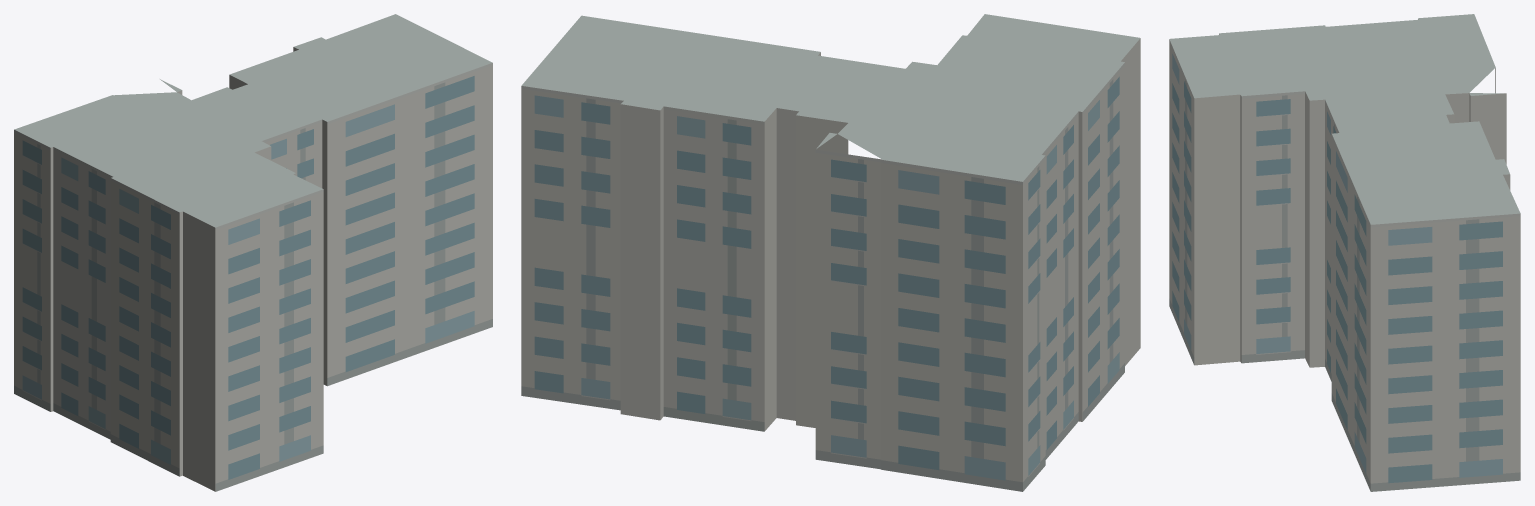
The model's file is survey-upis-32827572.glb.
3 views of the same model, side by side, from view 1: azimuth 30°, elevation 25°; view 2: azimuth 150°, elevation 25°; view 3: azimuth 270°, elevation 25° (orthographic). The views are drawn at different scales.
Parts seen in each view (by area): view 1: survey-upis-32827572.tmp; view 2: survey-upis-32827572.tmp; view 3: survey-upis-32827572.tmp.
Part boxes in pixels (x1,y1,x2,y2): survey-upis-32827572.tmp: (14,14,492,491); survey-upis-32827572.tmp: (521,14,1140,491); survey-upis-32827572.tmp: (1169,14,1520,491).
Bounding box in the file's own units: 41.99 × 24.8 × 29.58.
